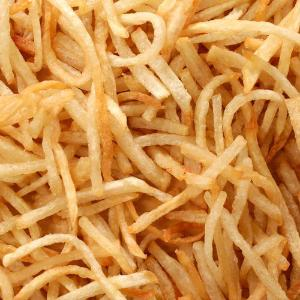fries_350cal: (2, 4, 300, 299)
